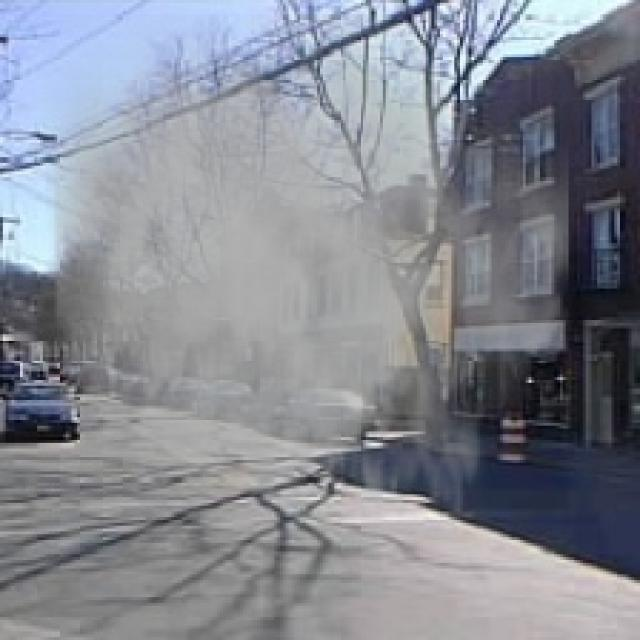smoke: (23, 14, 568, 574)
